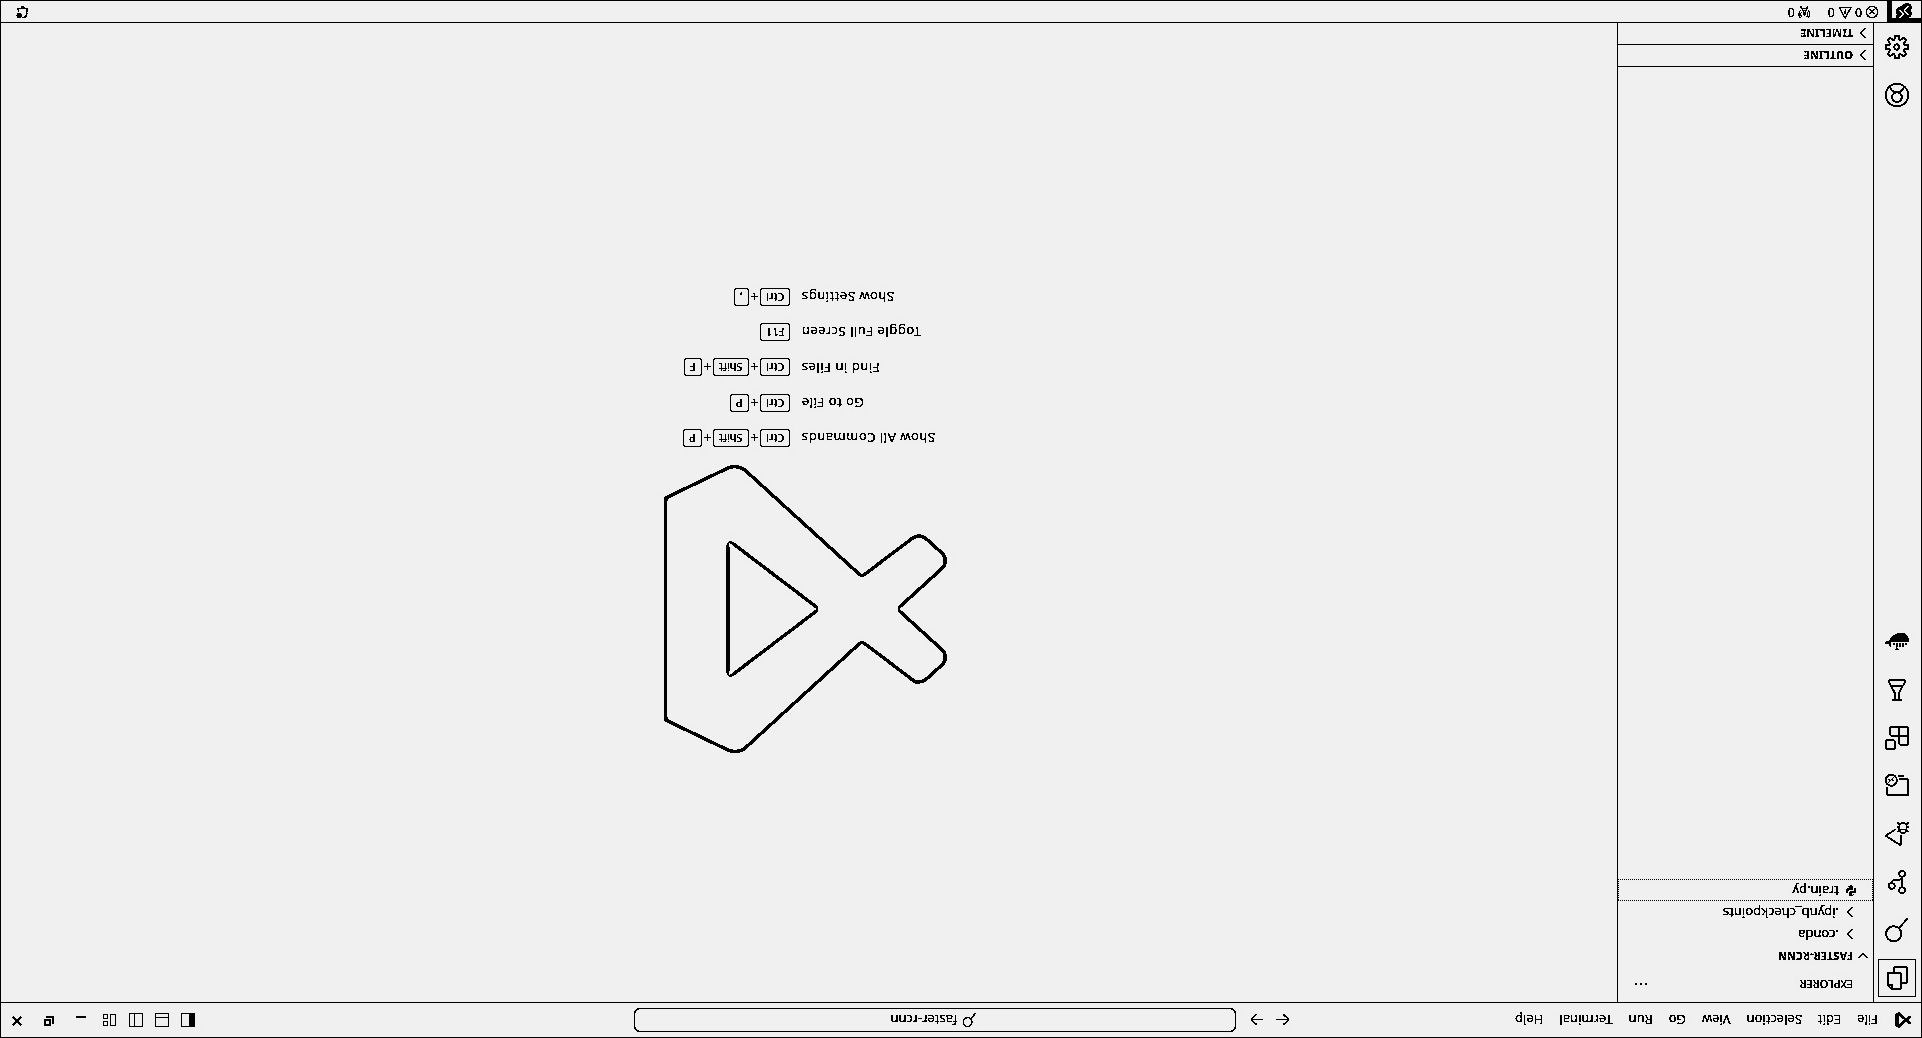Accounts: (1882, 81, 1916, 112)
Activity Bar: (1873, 29, 1919, 1002)
Close: (9, 1012, 29, 1032)
Editor: (3, 28, 1620, 1003)
Explorer: (1884, 966, 1914, 995)
Extensions: (1882, 724, 1916, 758)
Manage: (1881, 32, 1917, 66)
Maximize: (37, 1011, 64, 1032)
Minimize: (69, 1010, 95, 1032)
Primary Side Bar: (1617, 29, 1877, 1006)
Run and Debug: (1882, 819, 1916, 851)
Search: (1884, 918, 1914, 949)
Search Bar: (627, 1007, 1245, 1035)
Source Control: (1887, 871, 1912, 897)
Status Bar: (3, 5, 1922, 26)
Testing: (1882, 674, 1914, 709)
Top Bar: (3, 1007, 1921, 1037)
